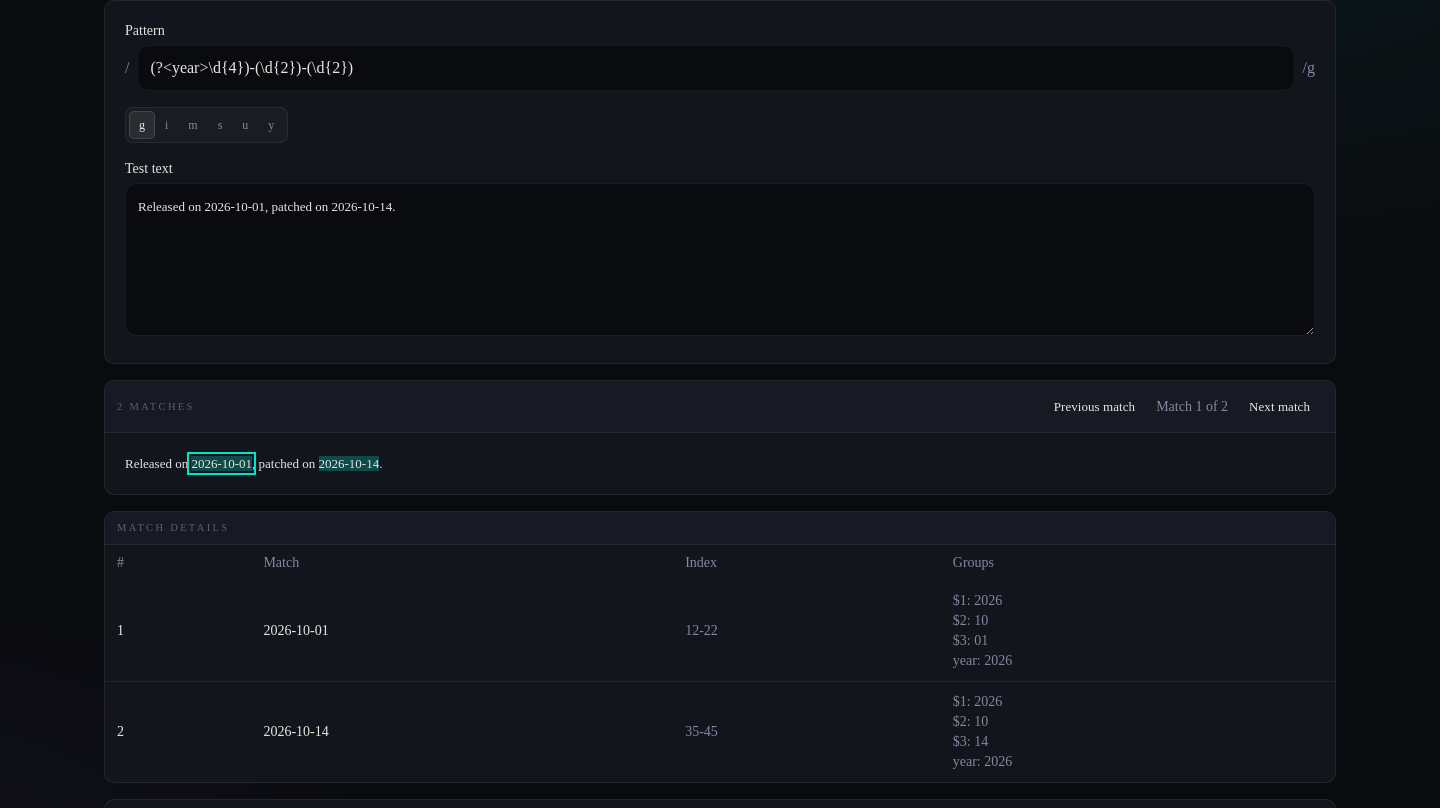
RegexTesterClient › shows '1 match' when there is a single match
Replace the text in the field labelled "Pattern" with "^Released" at coordinates (716, 68), box [138, 45, 1295, 91]
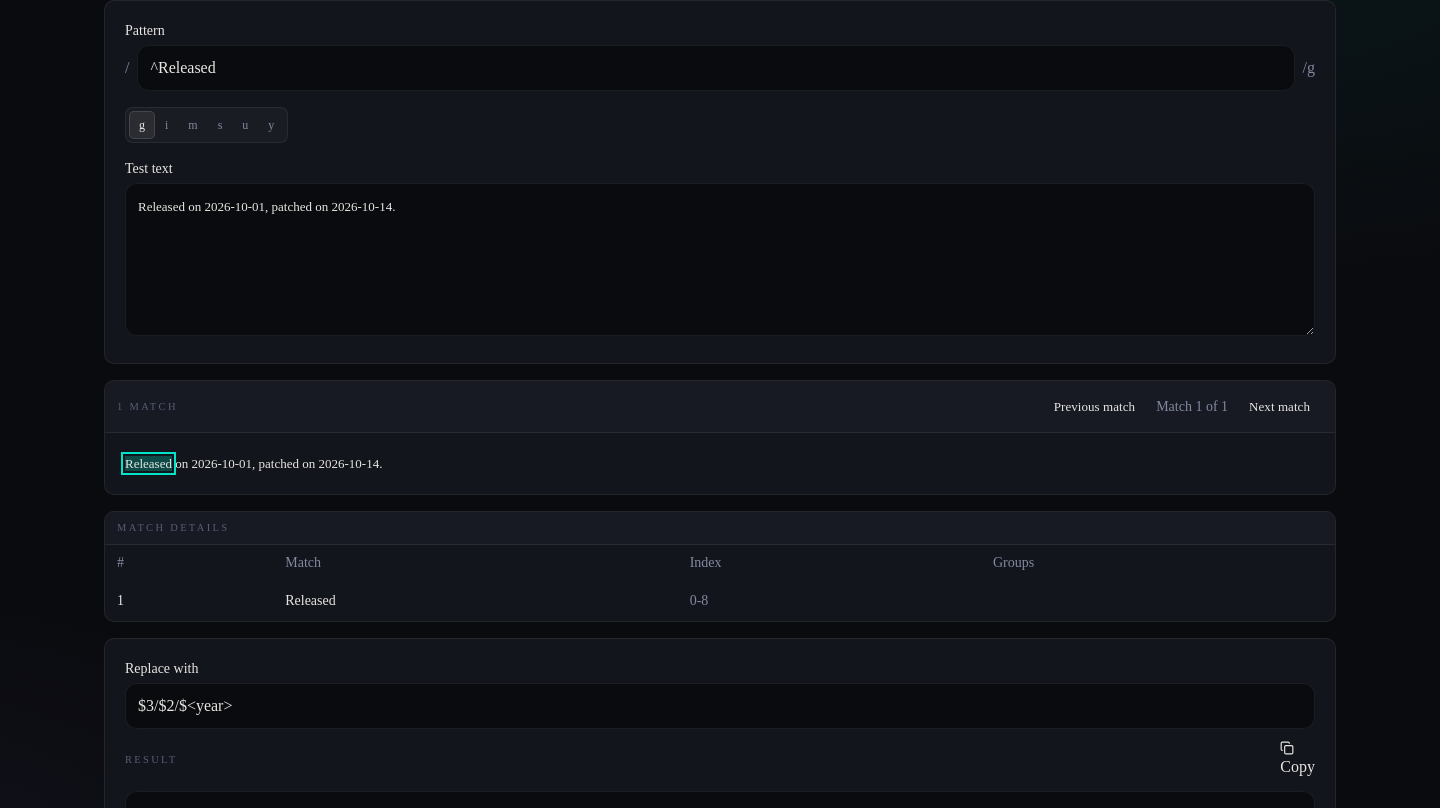
Expected: the heading "1 match" is shown, [117, 399, 178, 414]
